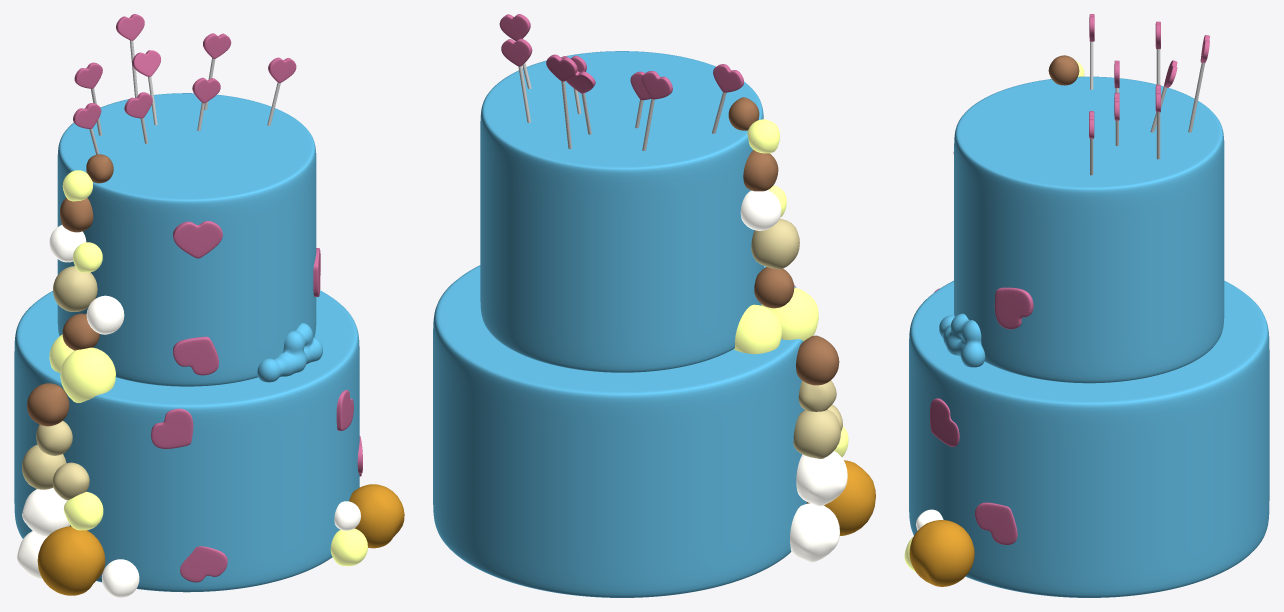
Rendered from Cake_Layer_2_LightBlue_Topper1_Hearts_NoDrip.glb.
3 renders of one model, left to right at view 1: azimuth 30°, elevation 25°; view 2: azimuth 150°, elevation 25°; view 3: azimuth 270°, elevation 25°, orthographic. The views are drawn at different scales.
Parts seen in each view (by area): view 1: Circle.001, Circle.002, Sphere, Sphere.026, Sphere.015, Sphere.028, Sphere.002, Sphere.012, Sphere.006, Star.003, Star.002, Star.001 (+26 smaller); view 2: Circle.001, Circle.002, Sphere.013, Sphere.002, Sphere, Sphere.005, Sphere.008, Sphere.012, Sphere.006, Sphere.015, Sphere.014, Sphere.009 (+9 smaller); view 3: Circle.001, Circle.002, Sphere.026, Sphere.028, Star.011, Star.004, Star.010, Sphere.018.
Part boxes in pixels (bbox=[...]): Circle.001: bbox=[14, 290, 359, 592]; Circle.002: bbox=[57, 93, 316, 386]; Sphere: bbox=[37, 526, 105, 595]; Sphere.026: bbox=[349, 484, 404, 548]; Sphere.015: bbox=[60, 347, 115, 402]; Sphere.028: bbox=[257, 323, 322, 382]; Sphere.002: bbox=[22, 487, 69, 536]; Sphere.012: bbox=[53, 266, 97, 311]; Sphere.006: bbox=[27, 383, 69, 426]; Star.003: bbox=[173, 221, 222, 258]; Star.002: bbox=[173, 336, 218, 375]; Star.001: bbox=[151, 408, 193, 448]; Circle.001: bbox=[433, 265, 806, 597]; Circle.002: bbox=[480, 51, 763, 372]; Sphere.013: bbox=[790, 503, 839, 562]; Sphere.002: bbox=[796, 451, 847, 506]; Sphere: bbox=[807, 460, 875, 535]; Sphere.005: bbox=[793, 409, 840, 458]; Sphere.008: bbox=[734, 304, 781, 354]; Sphere.012: bbox=[751, 218, 799, 269]; Sphere.006: bbox=[796, 335, 839, 385]; Sphere.015: bbox=[761, 287, 818, 341]; Sphere.014: bbox=[740, 190, 781, 230]; Sphere.009: bbox=[754, 267, 794, 308]; Circle.001: bbox=[909, 280, 1269, 597]; Circle.002: bbox=[954, 76, 1224, 383]; Sphere.026: bbox=[909, 520, 974, 586]; Sphere.028: bbox=[939, 313, 985, 367]; Star.011: bbox=[975, 502, 1017, 544]; Star.004: bbox=[994, 287, 1033, 329]; Star.010: bbox=[930, 398, 959, 446]; Sphere.018: bbox=[1048, 55, 1079, 85].
Bounding box in the file's own units: 0.2244 × 0.3018 × 0.2025.
